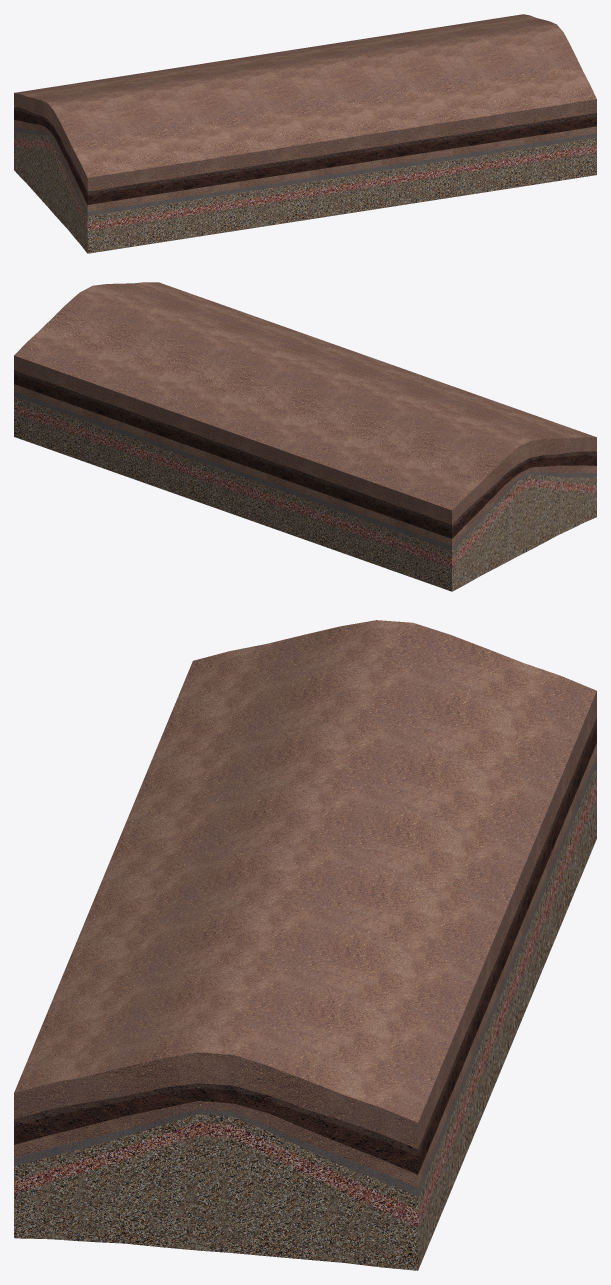
File: dizhi1207.obj
3 views of the same model, one above another, from view 1: azimuth 30°, elevation 25°; view 2: azimuth 150°, elevation 25°; view 3: azimuth 270°, elevation 25° (orthographic). The views are drawn at different scales.
Parts seen in each view (by area): view 1: 0, 7, 1, 5, 6, 3, 4; view 2: 0, 7, 1, 6, 5, 3, 4; view 3: 0, 7, 1, 6, 3, 5, 4.
Boxes of the visible parts, x1,y1,x2,y2 form: 0: (14,14,596,191); 7: (14,146,596,253); 1: (14,106,596,204); 5: (14,131,596,223); 6: (14,138,596,230); 3: (14,120,596,211); 4: (14,127,596,216); 0: (14,282,596,524); 7: (14,413,596,591); 1: (14,370,596,538); 6: (14,404,596,567); 5: (14,396,596,558); 3: (14,384,596,545); 4: (14,391,596,550); 0: (14,620,596,1148); 7: (14,796,596,1270); 1: (14,717,596,1174); 6: (14,779,596,1226); 3: (14,743,596,1187); 5: (14,765,596,1210); 4: (14,756,596,1196).
Size of the model in its own units: 226 by 46.02 by 120.
Materials: 6 (6 with a texture image).
